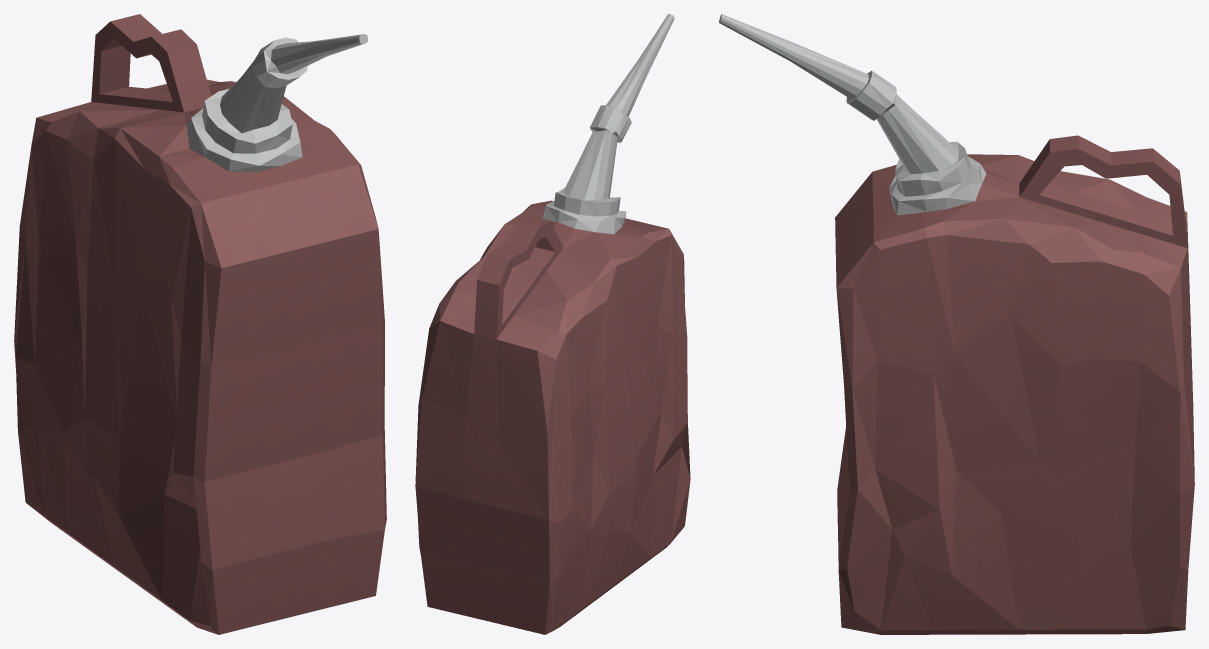
The model's file is jerry_can_with_nozzle.fbx.
3 renders of one model, left to right at view 1: azimuth 30°, elevation 25°; view 2: azimuth 150°, elevation 25°; view 3: azimuth 270°, elevation 25°, orthographic. The views are drawn at different scales.
Parts seen in each view (by area): view 1: jerry_can_with_nozzle; view 2: jerry_can_with_nozzle; view 3: jerry_can_with_nozzle.
Boxes of the visible parts, x1,y1,x2,y2 form: jerry_can_with_nozzle: (14,14,386,634); jerry_can_with_nozzle: (415,14,690,634); jerry_can_with_nozzle: (719,14,1194,634).
Size of the model in its own units: 0.2817 by 0.8802 by 0.6484.
